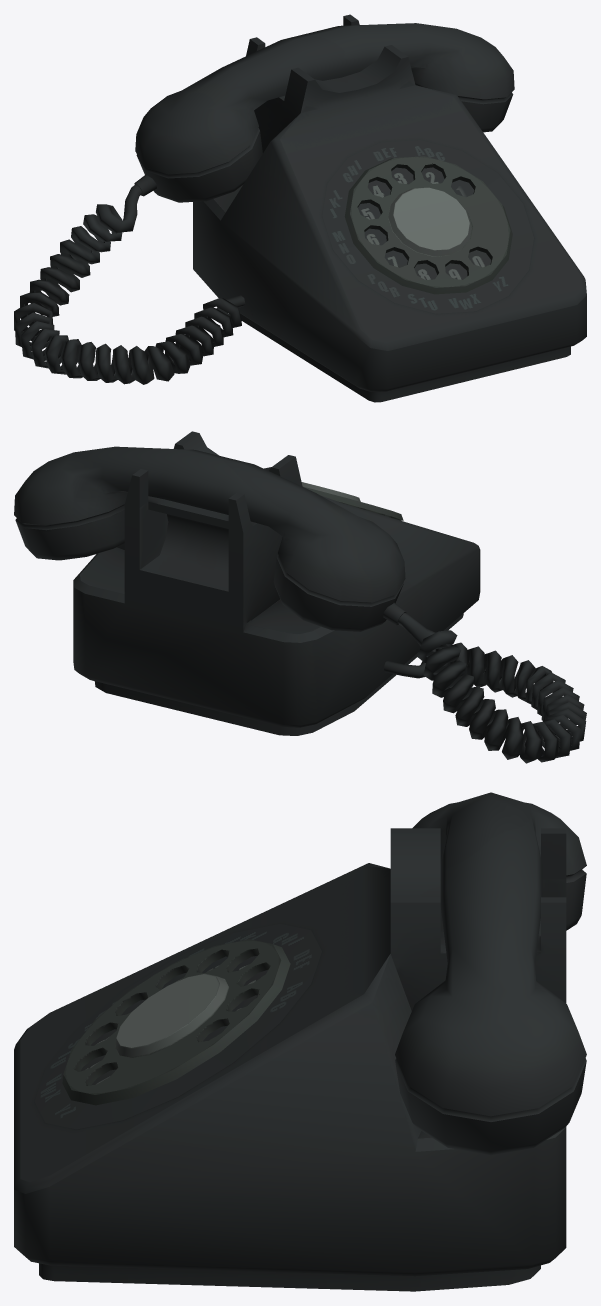
The model's file is telephone2.glb.
3 views of the same model, one above another, from view 1: azimuth 30°, elevation 25°; view 2: azimuth 150°, elevation 25°; view 3: azimuth 270°, elevation 25° (orthographic). The views are drawn at different scales.
Bounding box in the file's own units: 22.09 × 9.92 × 14.27.
2 materials, 2 textured.
